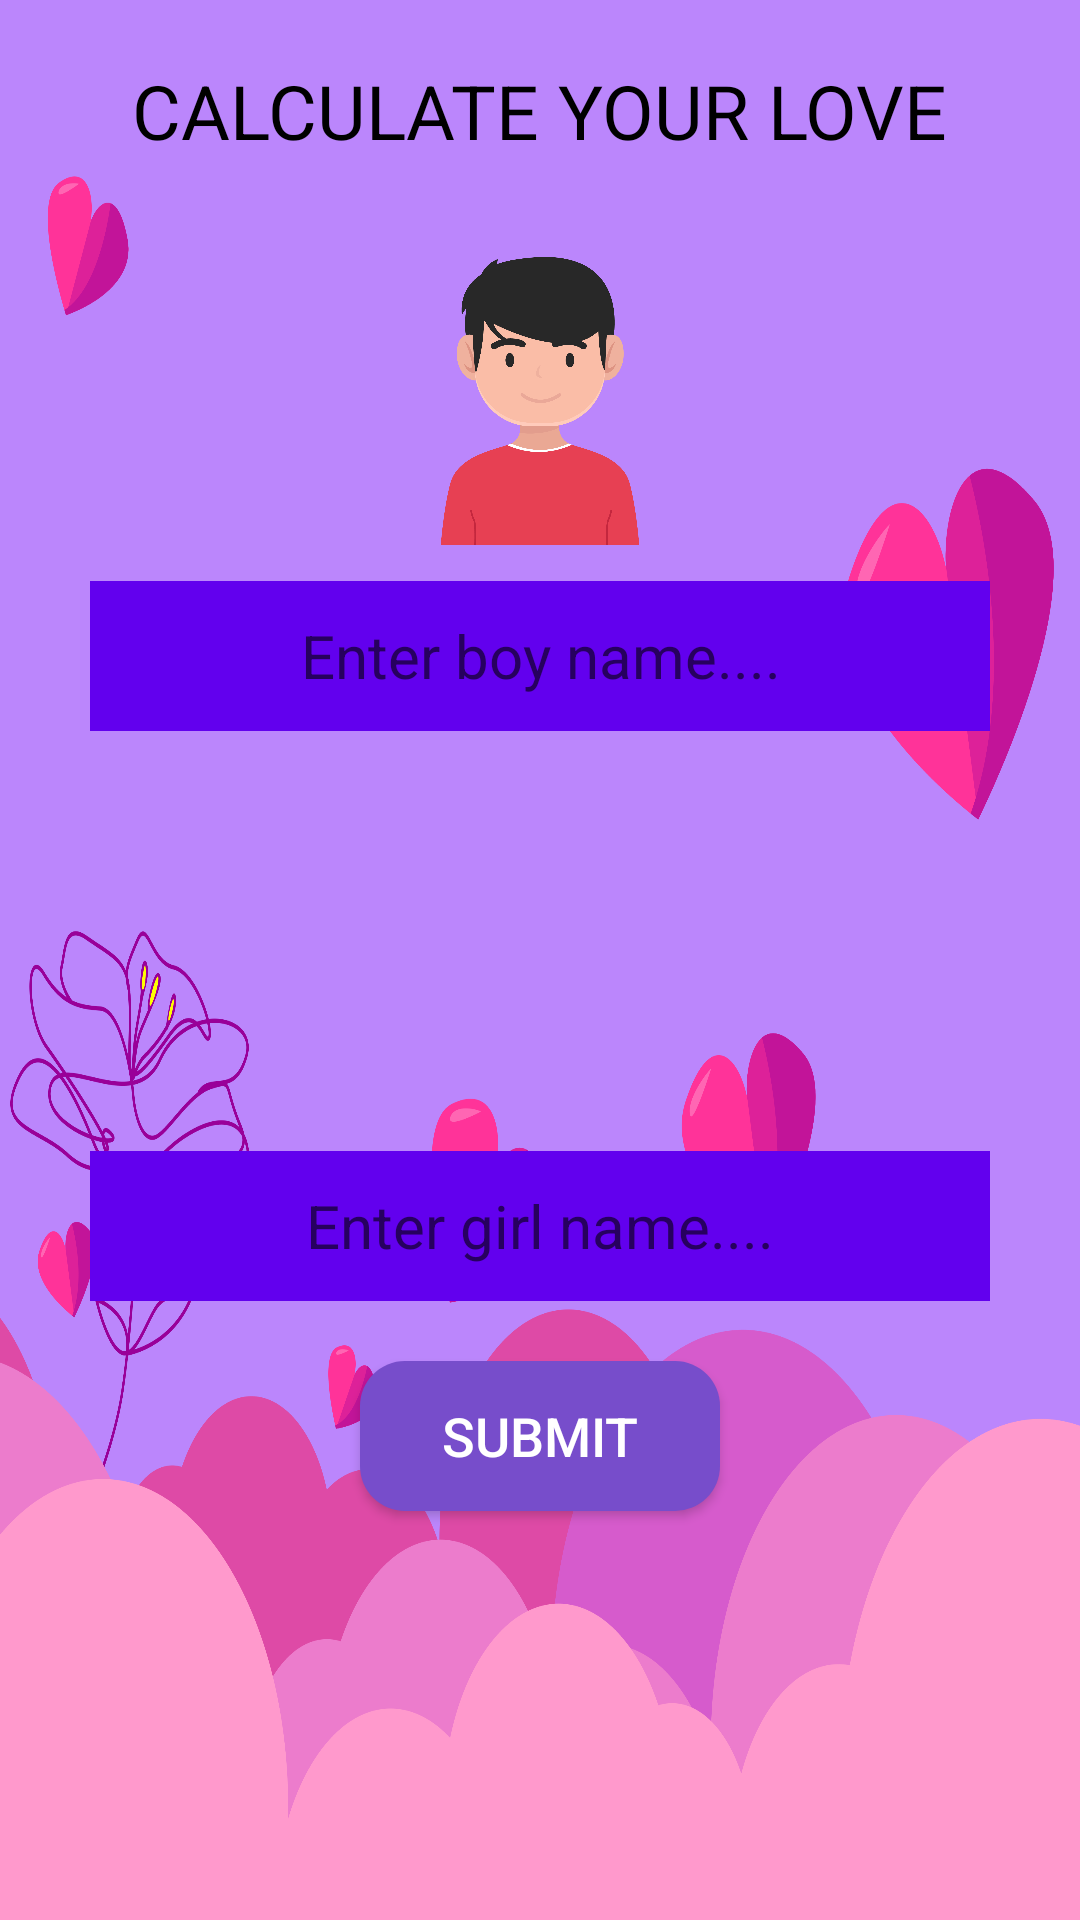

Icon click points for this 1080w x 1920h phone screenshot, format (x=x, y=y):
man: (x=540, y=401)
